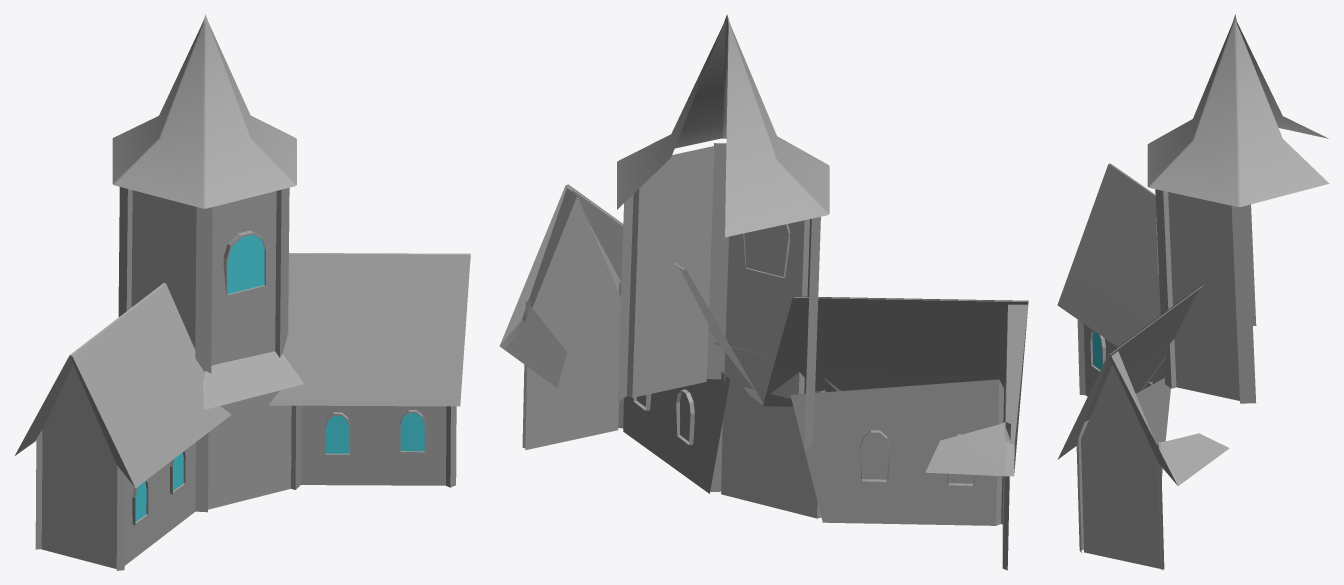
Rendered from ThievesGuild.fbx.
The picture shows the model from 3 angles, left to right: view 1: azimuth 30°, elevation 25°; view 2: azimuth 150°, elevation 25°; view 3: azimuth 270°, elevation 25°; orthographic projection. The views are drawn at different scales.
Parts seen in each view (by area): view 1: polySurface16; view 2: polySurface16; view 3: polySurface16.
Boxes of the visible parts, left/top/right/bottom form: polySurface16: left=15, top=14, right=470, bottom=570; polySurface16: left=499, top=14, right=1028, bottom=570; polySurface16: left=1057, top=14, right=1329, bottom=570.
Bounding box in the file's own units: 11.23 × 11.08 × 5.97.
